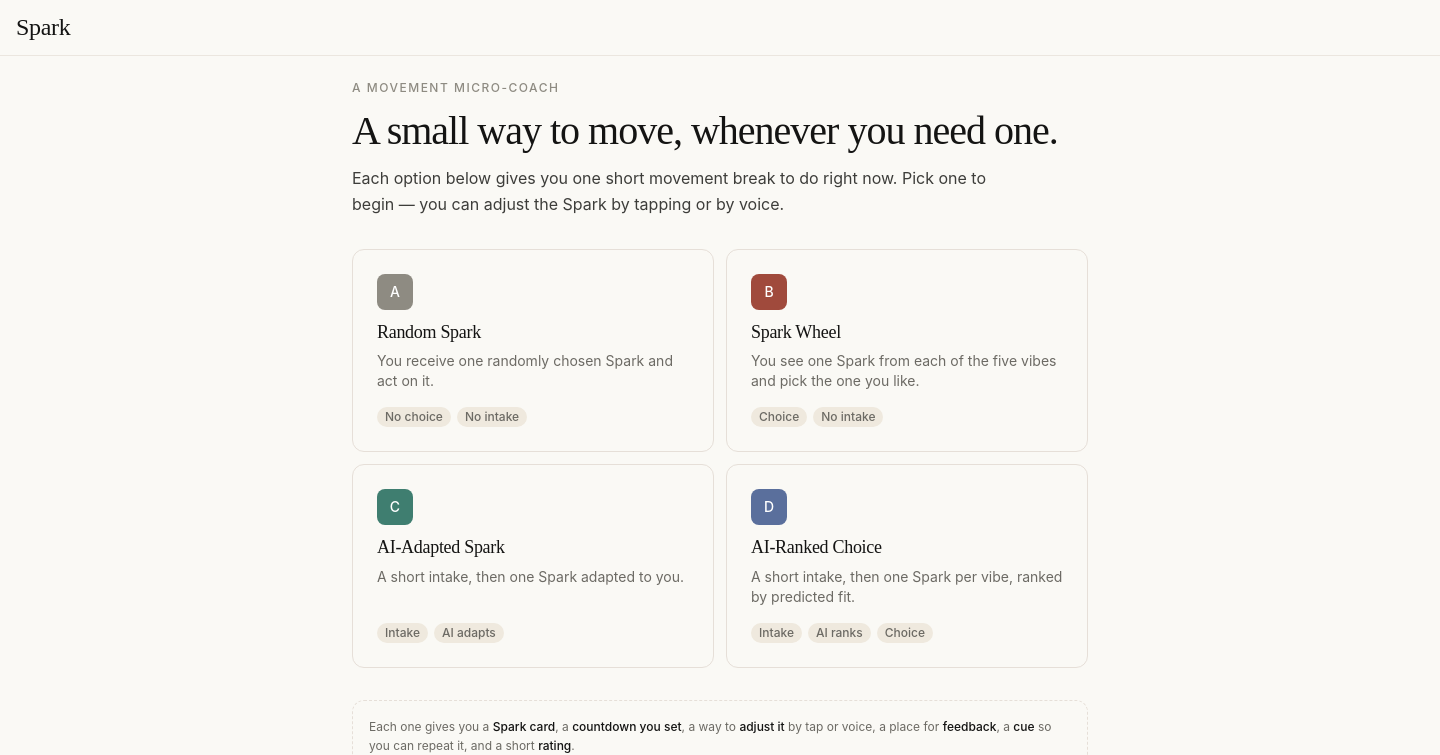
it: Spark page › condition B: shows one real Spark per vibe on entry instead of asking for a vibe
Click the button with test id "spark-cond-B".
click(907, 351)  # box [726,249,1088,452]
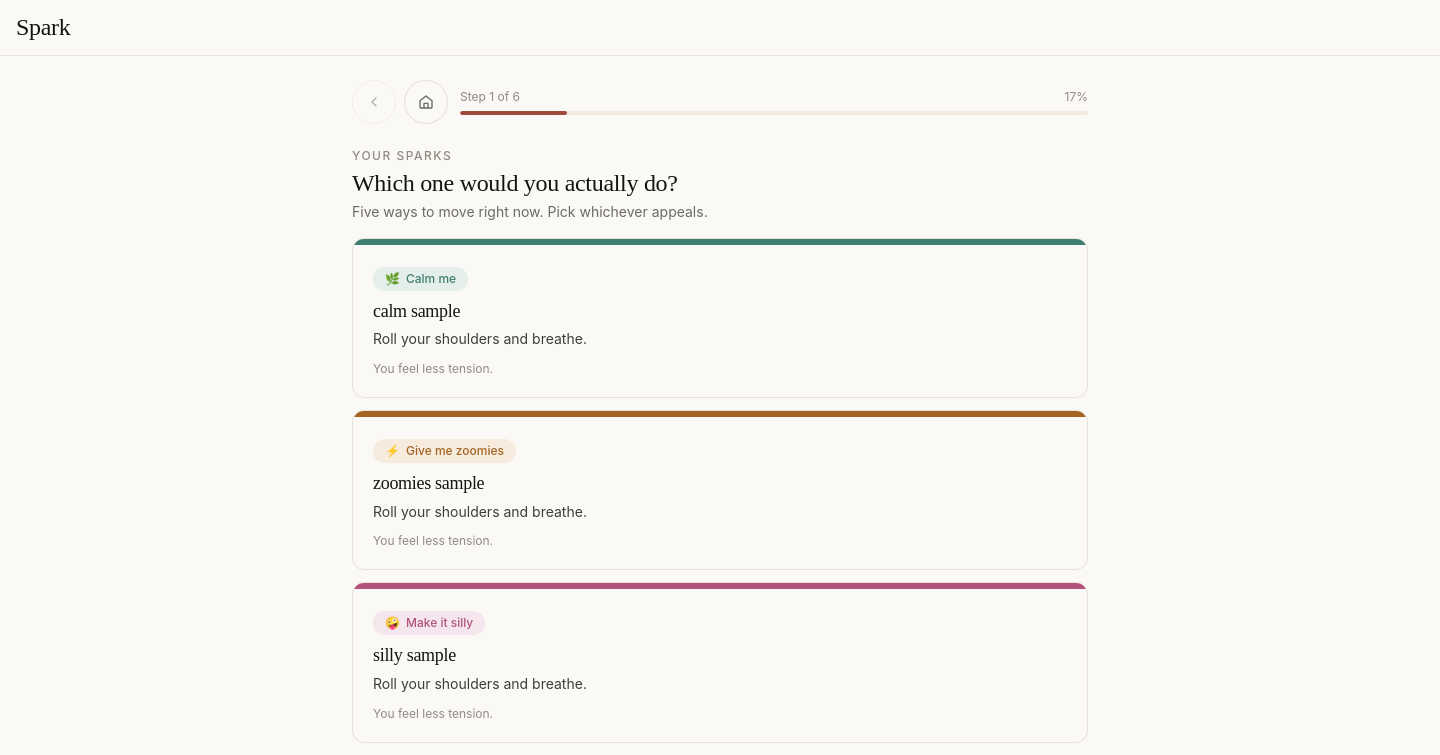
Now the button with test id "spark-sample-calm" is shown, box [352,238,1088,398]
Now the button with test id "spark-sample-silly" is shown
Picking one carries that card straight through — no extra fetch.
Click the button with test id "spark-sample-silly".
click(720, 586)  # box [352,582,1088,743]
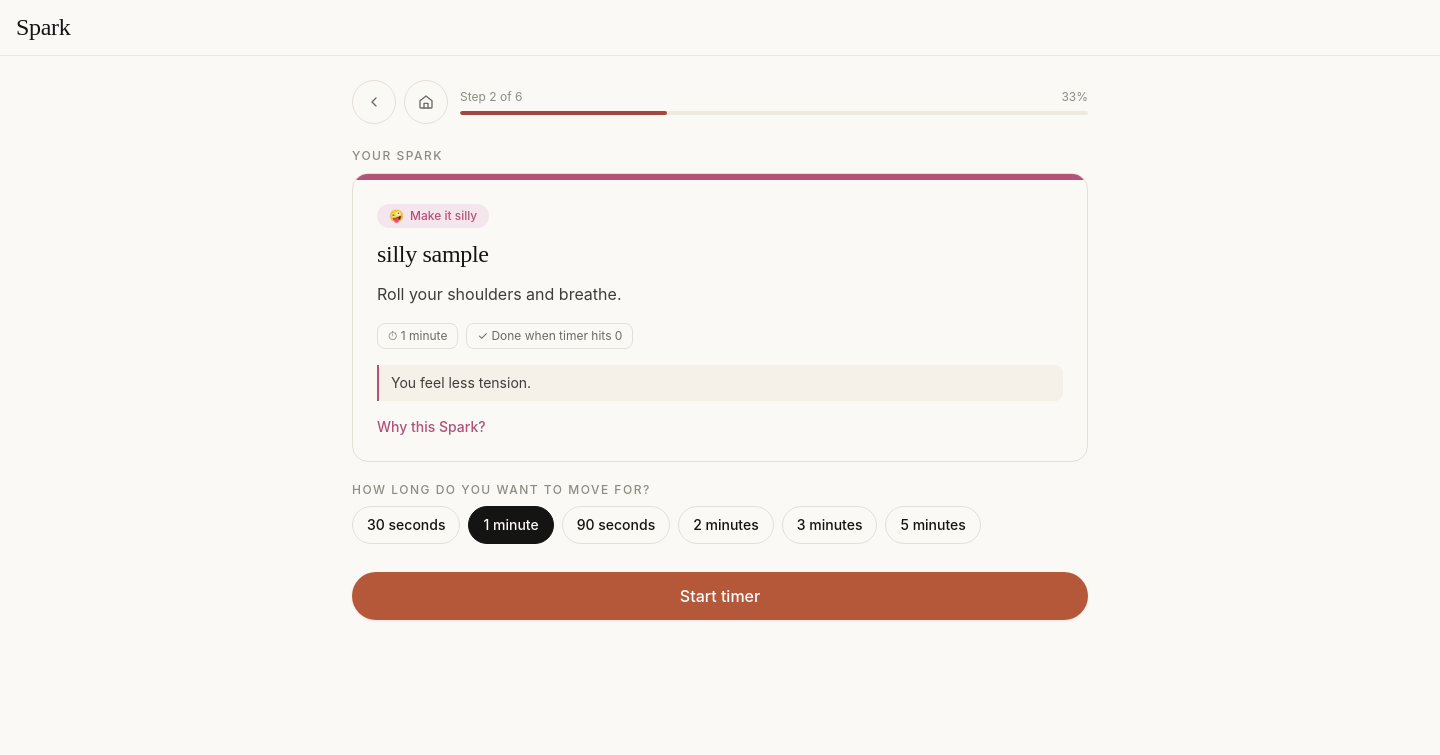
Now the heading "silly sample" is shown, box [377,241,489,267]
Now the element with test id "spark-card" is shown, box [352,173,1088,462]
